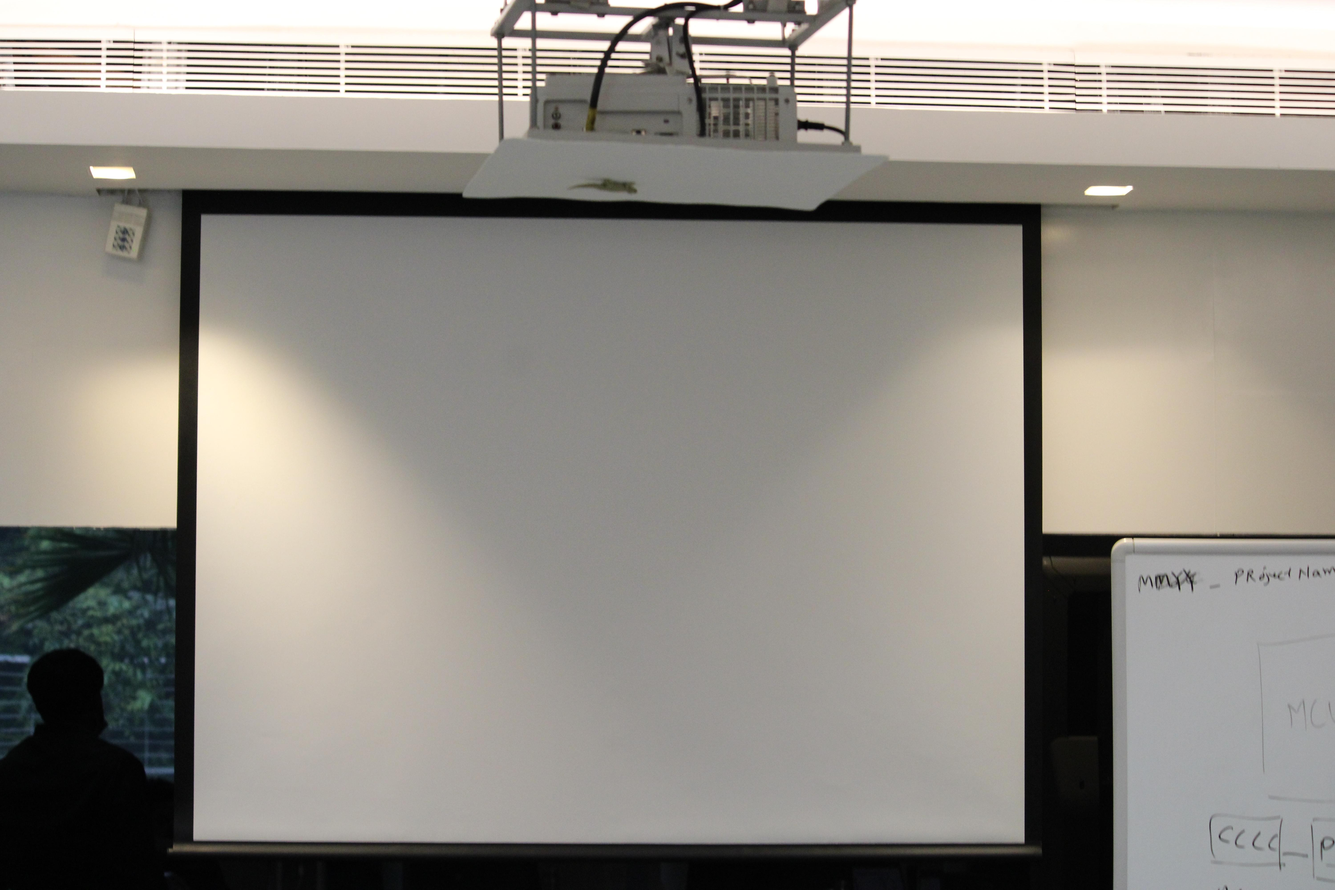lizard: (574, 165, 640, 209)
